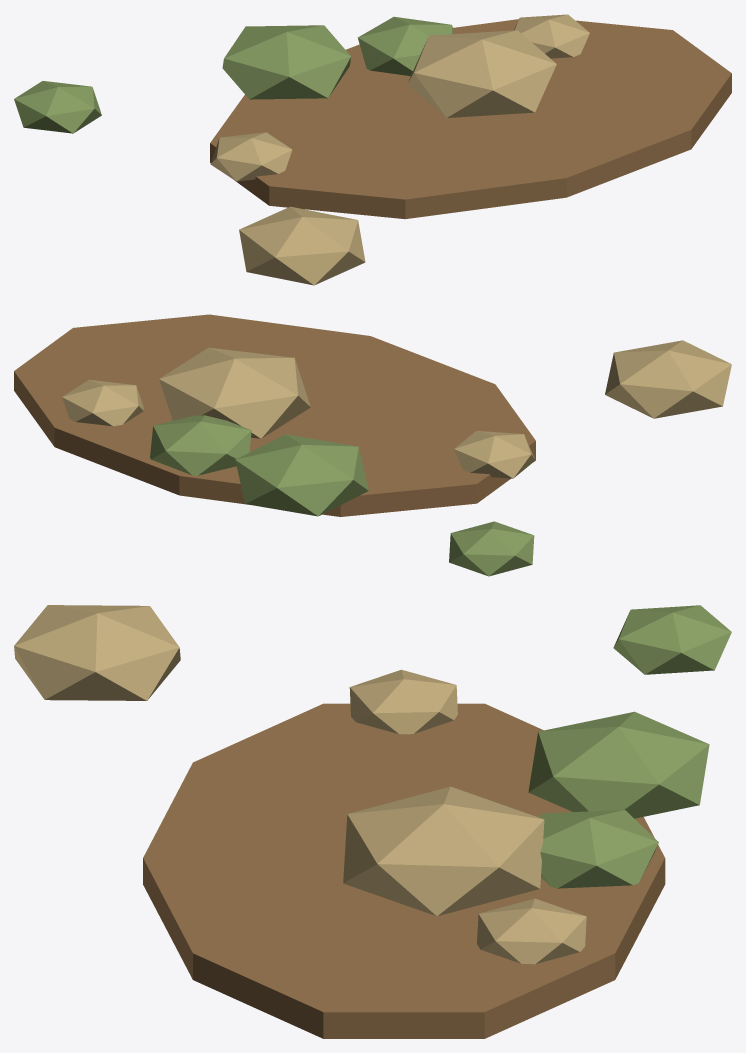
Rendered from grime.glb.
3 renders of one model, top to bottom at view 1: azimuth 30°, elevation 25°; view 2: azimuth 150°, elevation 25°; view 3: azimuth 270°, elevation 25°, orthographic. The views are drawn at different scales.
Parts seen in each view (by area): view 1: Grime; view 2: Grime; view 3: Grime.
Boxes of the visible parts, <box> form: Grime: <box>14,14,731,285</box>; Grime: <box>14,314,731,576</box>; Grime: <box>14,605,731,1038</box>.
Bounding box in the file's own units: 0.1248 × 0.0146 × 0.0973.
